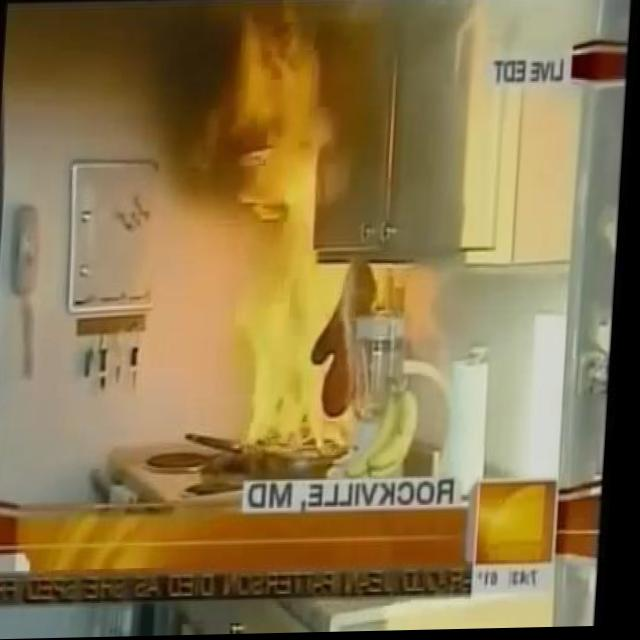fire: (215, 11, 400, 461)
